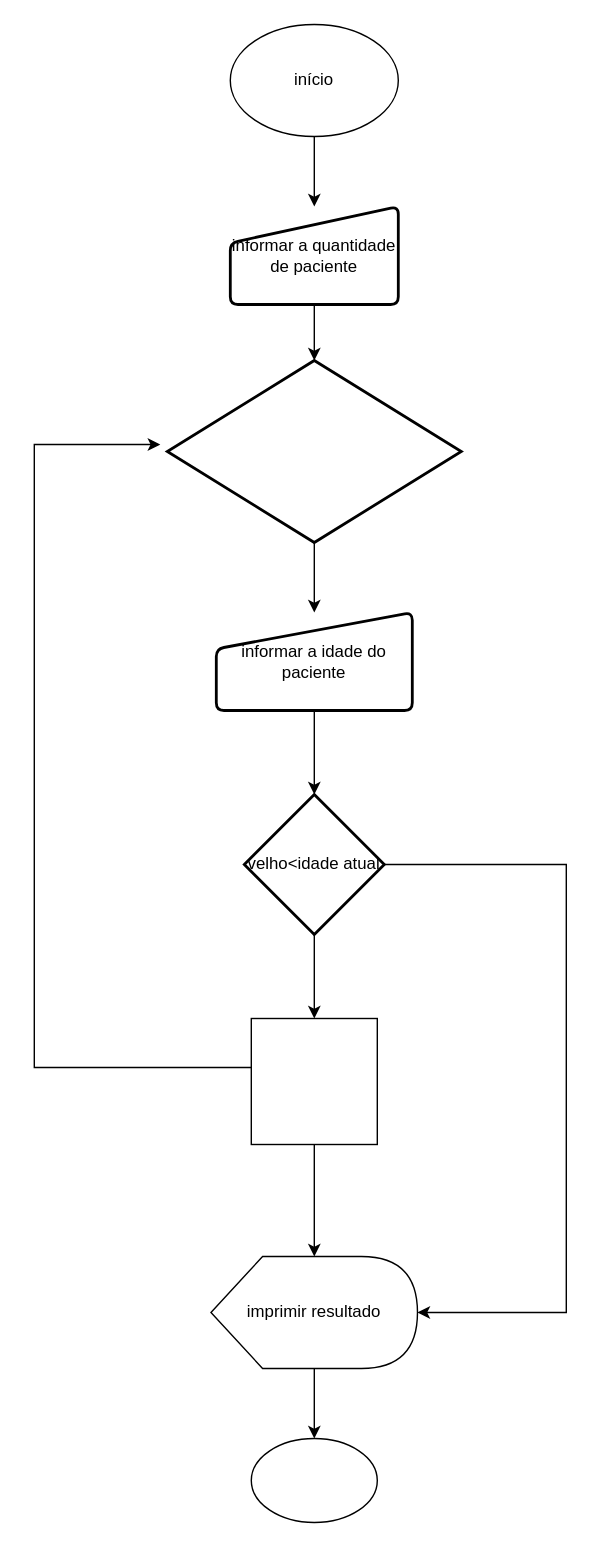
This 602x1547 diagram has some shape labels left out. The centre of each missing label's shape, as x and y in pixels:
"fim" belongs at point 313,1479.
"i=1 até i<=quantidade de paciente sendo i++" belongs at point 313,450.
"velho= idadeatual" belongs at point 313,1080.
